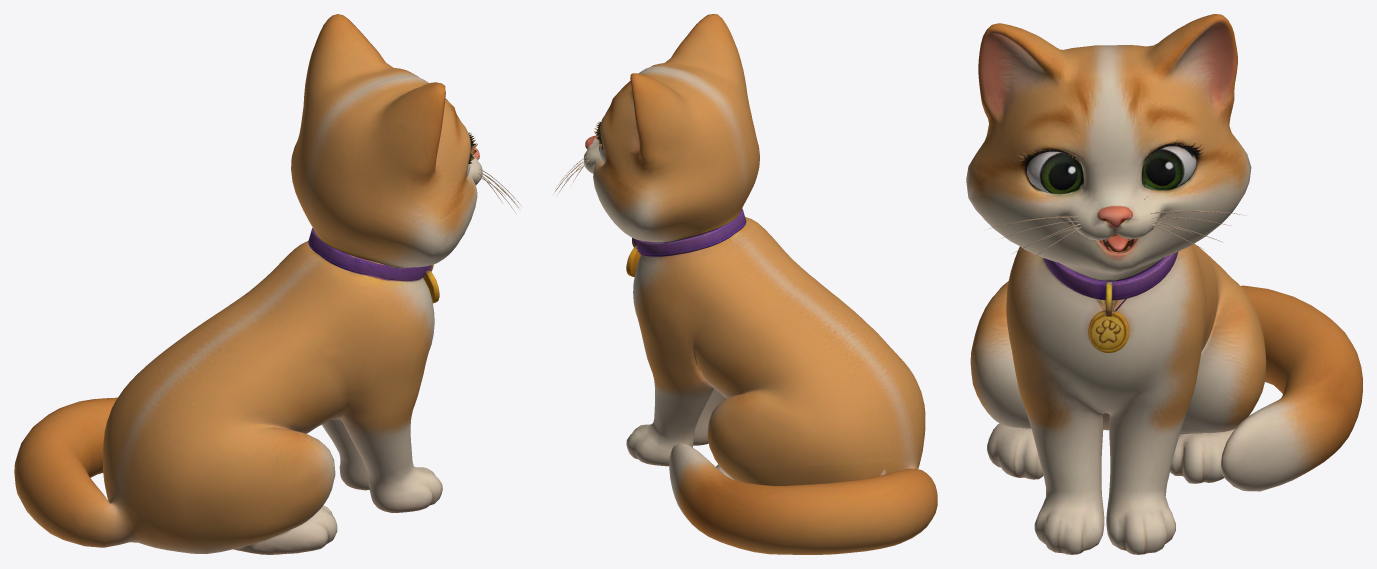
The model's file is tanha.glb.
3 views of the same model, side by side, from view 1: azimuth 30°, elevation 25°; view 2: azimuth 150°, elevation 25°; view 3: azimuth 270°, elevation 25° (orthographic). The views are drawn at different scales.
Parts seen in each view (by area): view 1: tripo_node_d04d5e35-099f-4a60-b689-a5797e803fb4; view 2: tripo_node_d04d5e35-099f-4a60-b689-a5797e803fb4; view 3: tripo_node_d04d5e35-099f-4a60-b689-a5797e803fb4.
Part boxes in pixels (left/top/right/bottom): tripo_node_d04d5e35-099f-4a60-b689-a5797e803fb4: left=14, top=14, right=521, bottom=554; tripo_node_d04d5e35-099f-4a60-b689-a5797e803fb4: left=554, top=14, right=937, bottom=554; tripo_node_d04d5e35-099f-4a60-b689-a5797e803fb4: left=966, top=14, right=1362, bottom=554.
Bounding box in the file's own units: 0.9614 × 0.9995 × 0.688.
Materials: 1 (1 with a texture image).
